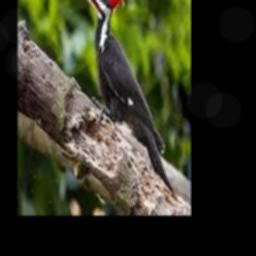Woodpecker: (76, 0, 175, 195)
